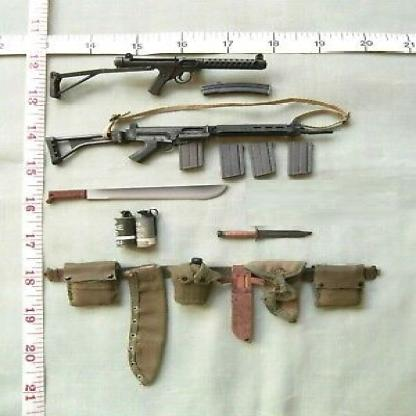Grenade: (111, 209, 137, 247), (138, 207, 160, 248)
Gun: (46, 112, 334, 168), (46, 52, 269, 100)
Knife: (46, 182, 229, 205), (216, 224, 313, 242)
